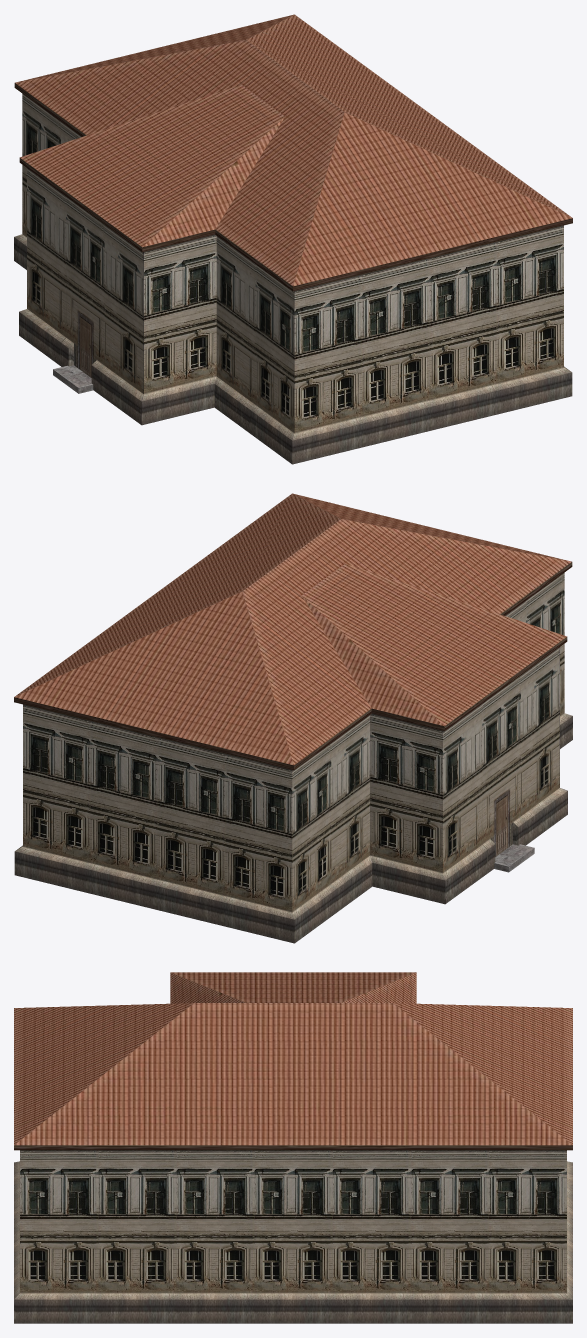
The model's file is school.gltf.
3 views of the same model, one above another, from view 1: azimuth 30°, elevation 25°; view 2: azimuth 150°, elevation 25°; view 3: azimuth 270°, elevation 25° (orthographic).
Size of the model in its own units: 1.91 by 1.25 by 2.5.
Materials: 1 (1 with a texture image).
